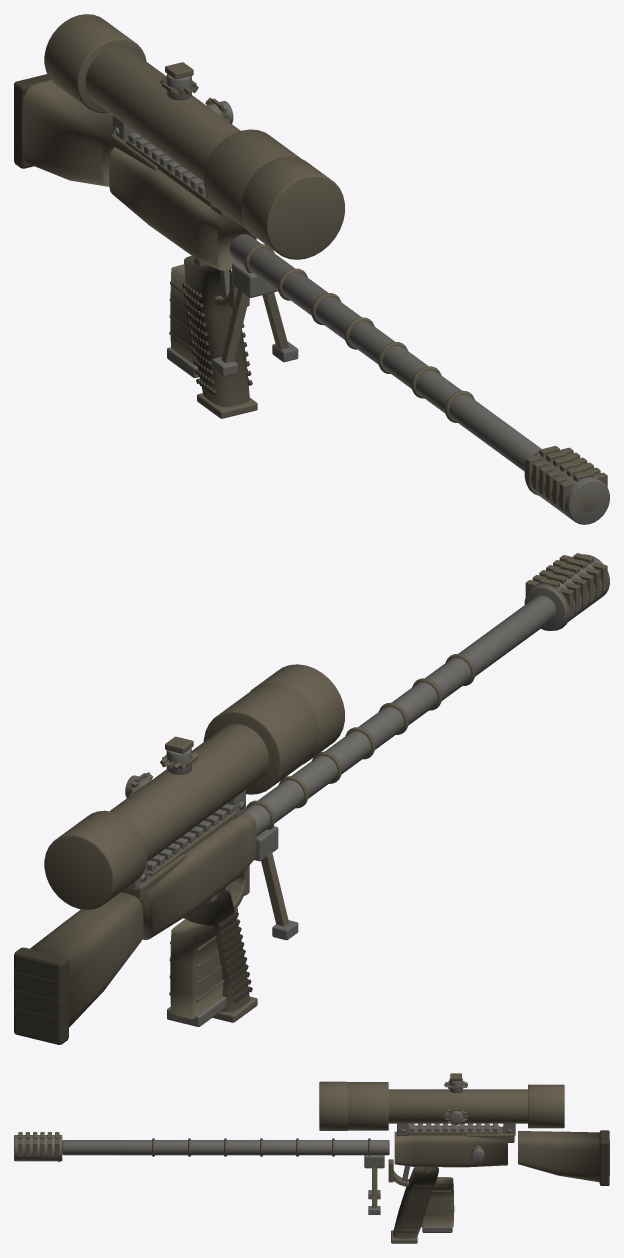
Rendered from weapon_sniper_rifle_04_v1.glb.
3 views of the same model, one above another, from view 1: azimuth 30°, elevation 25°; view 2: azimuth 150°, elevation 25°; view 3: azimuth 270°, elevation 25° (orthographic). The views are drawn at different scales.
Visible parts, largest first — view 1: sniper_rifle_04; view 2: sniper_rifle_04; view 3: sniper_rifle_04.
Part boxes in pixels (x1=…): sniper_rifle_04: x1=14, y1=14, x2=609, y2=524; sniper_rifle_04: x1=14, y1=553, x2=609, y2=1044; sniper_rifle_04: x1=14, y1=1073, x2=609, y2=1243.
Size of the model in its own units: 0.0709 by 0.216 by 0.7142.
